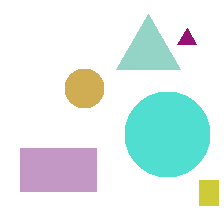circle: (125, 92, 209, 176), (65, 69, 103, 107)
rectangle: (20, 148, 96, 191), (199, 180, 218, 205)
triangle: (116, 14, 180, 69), (177, 28, 196, 44)
